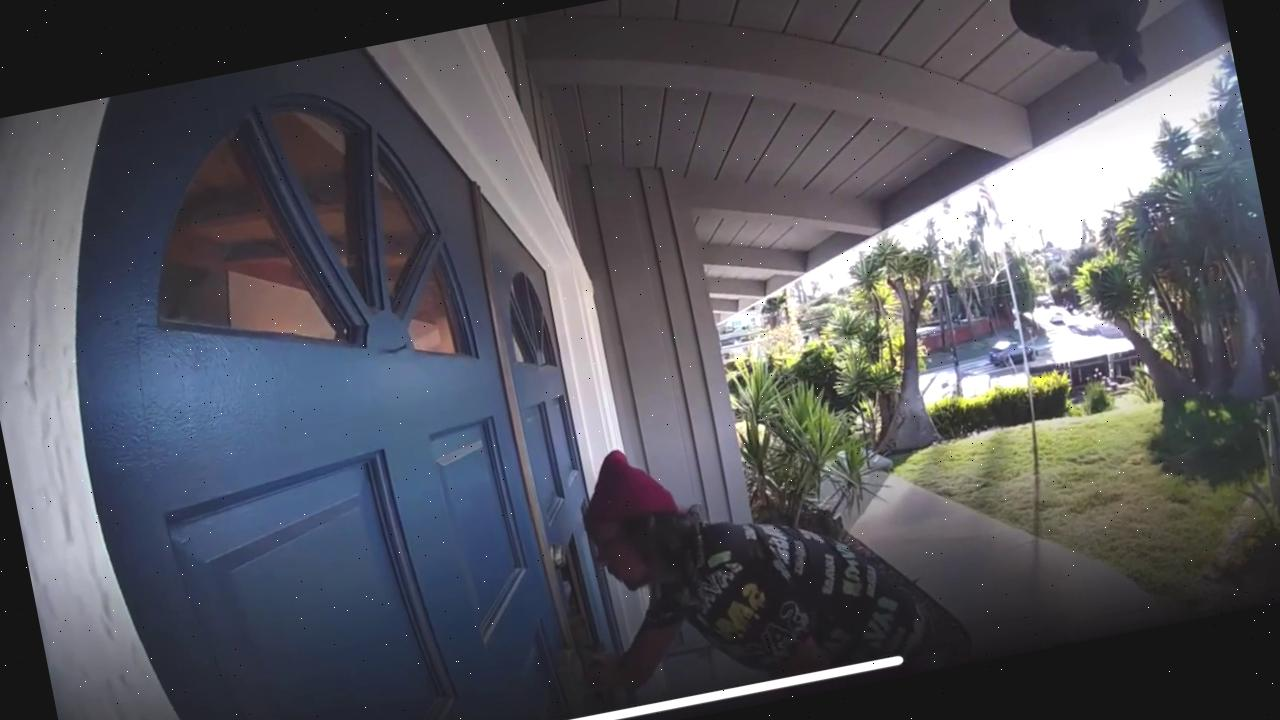suspicion: (491, 384, 967, 720)
